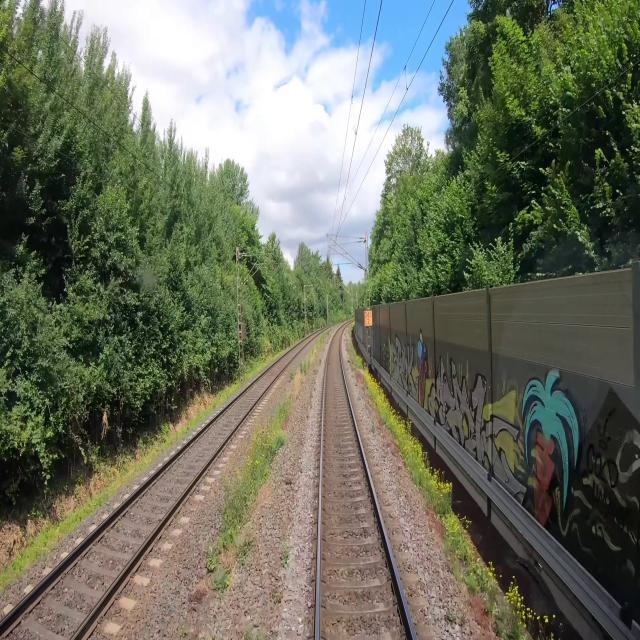Plant: (204, 329, 330, 570), (237, 534, 254, 570), (213, 566, 231, 594), (244, 620, 267, 639), (444, 611, 456, 631), (280, 541, 289, 567), (180, 624, 187, 638)
